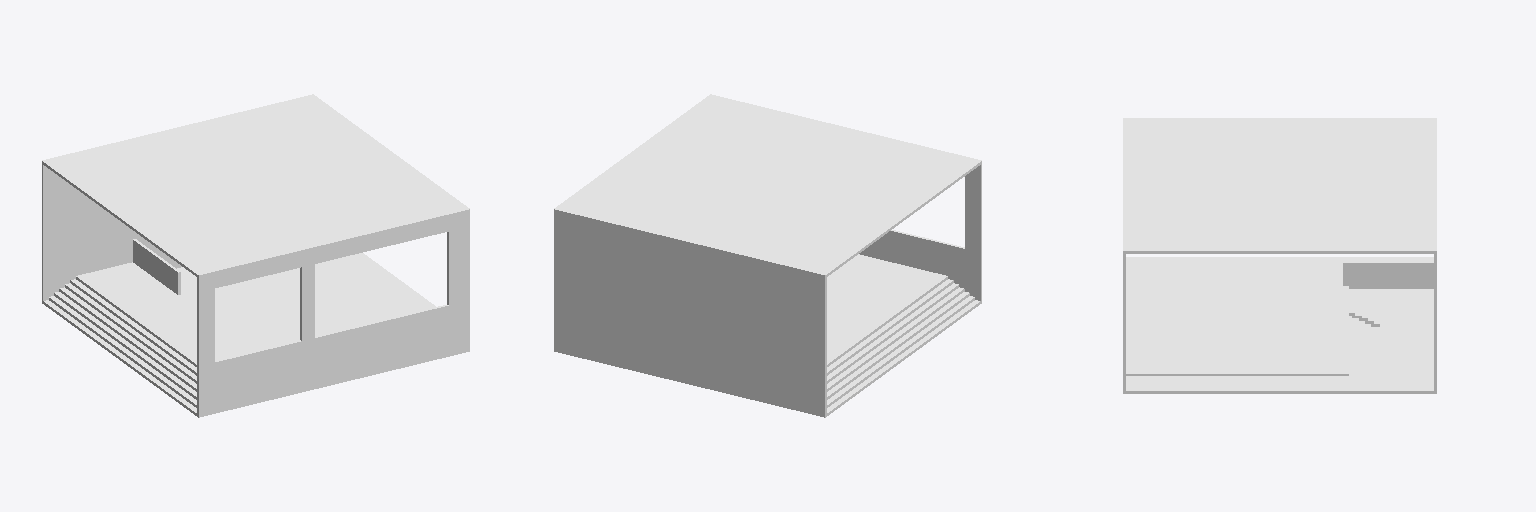
The model's file is EstacaoTeste.obj.
3 renders of one model, left to right at view 1: azimuth 30°, elevation 25°; view 2: azimuth 150°, elevation 25°; view 3: azimuth 270°, elevation 25°, orthographic.
Size of the model in its own units: 100 by 50 by 100.